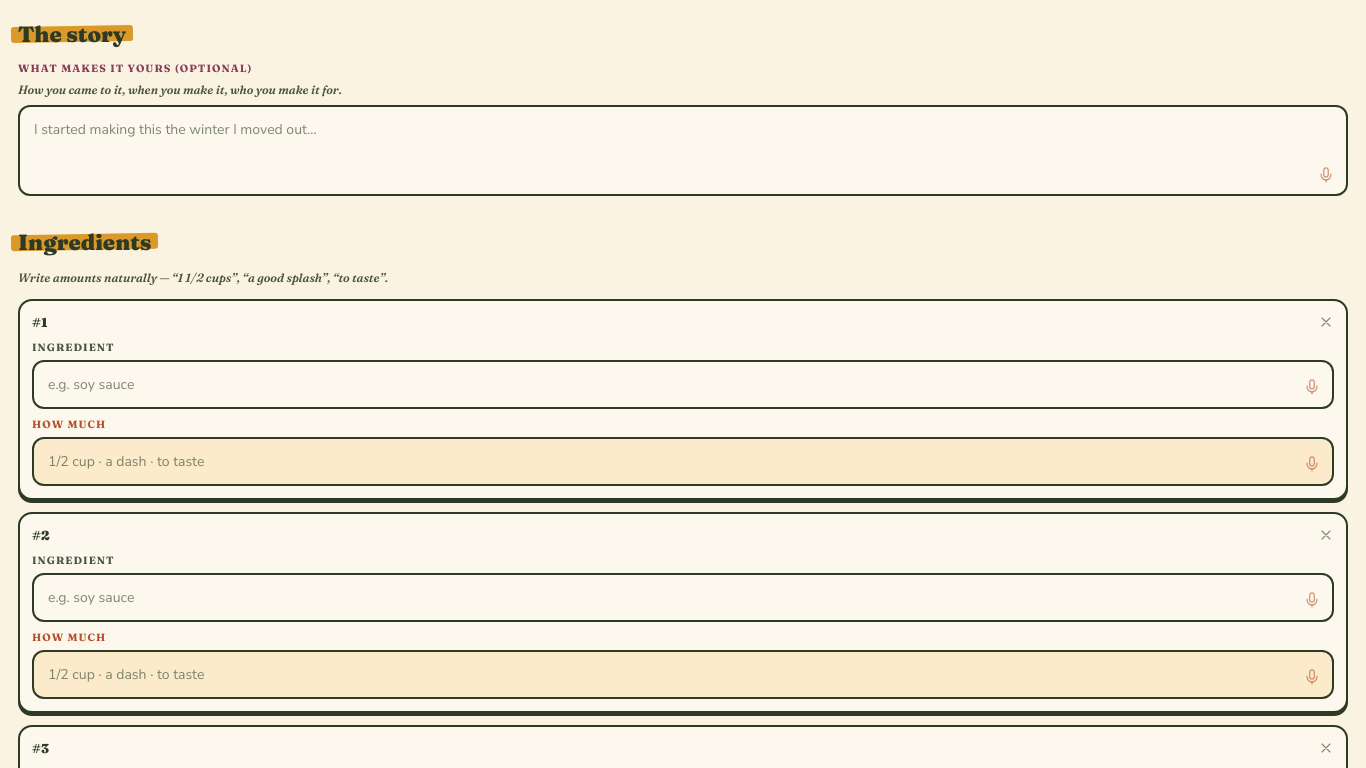
Scenario: RecipeForm ingredient autosuggest › suggests the user's own past ingredients, ranked first
(page scrolled)
Type "so" into the 1st dropdown with placeholder "e.g. soy sauce". click: [683, 384]
box: [32,360,1334,409]
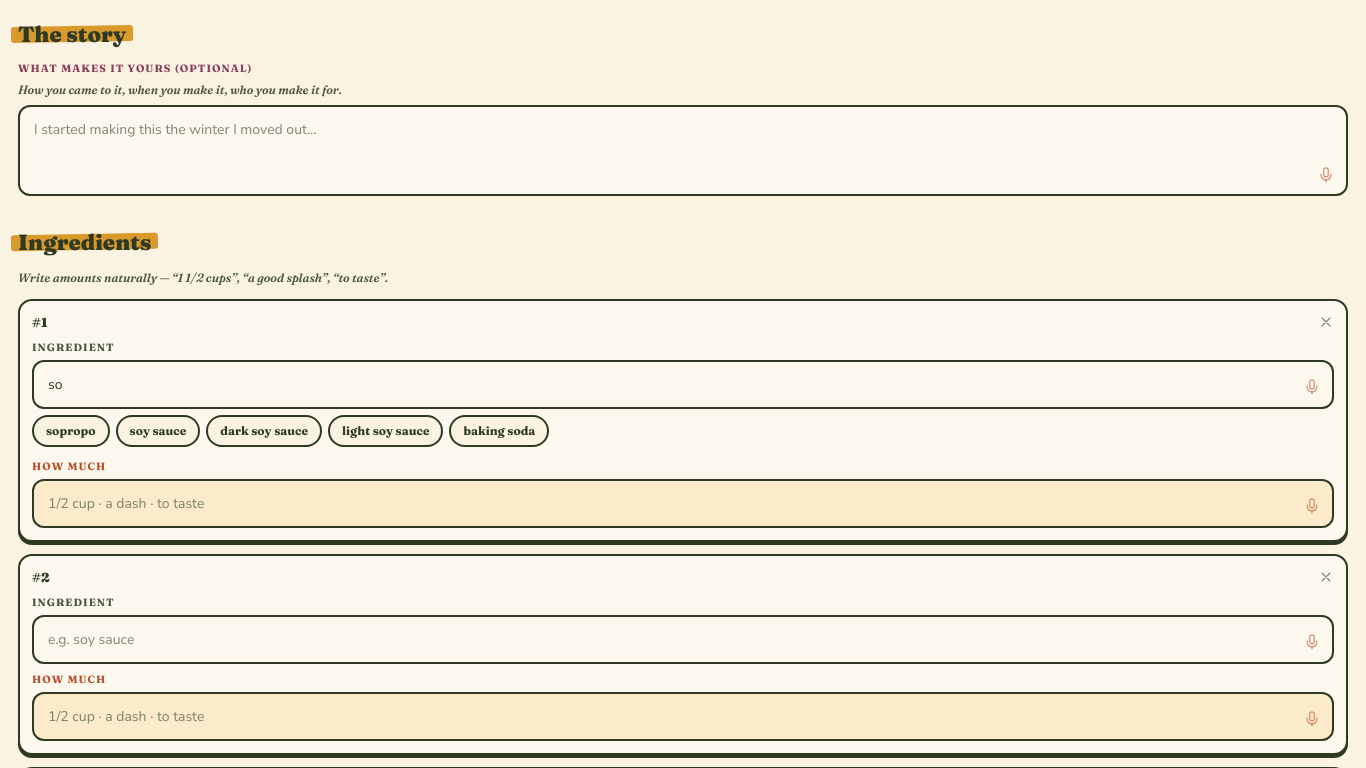
expect the option "sopropo" is shown: met, box [32,415,110,447]
